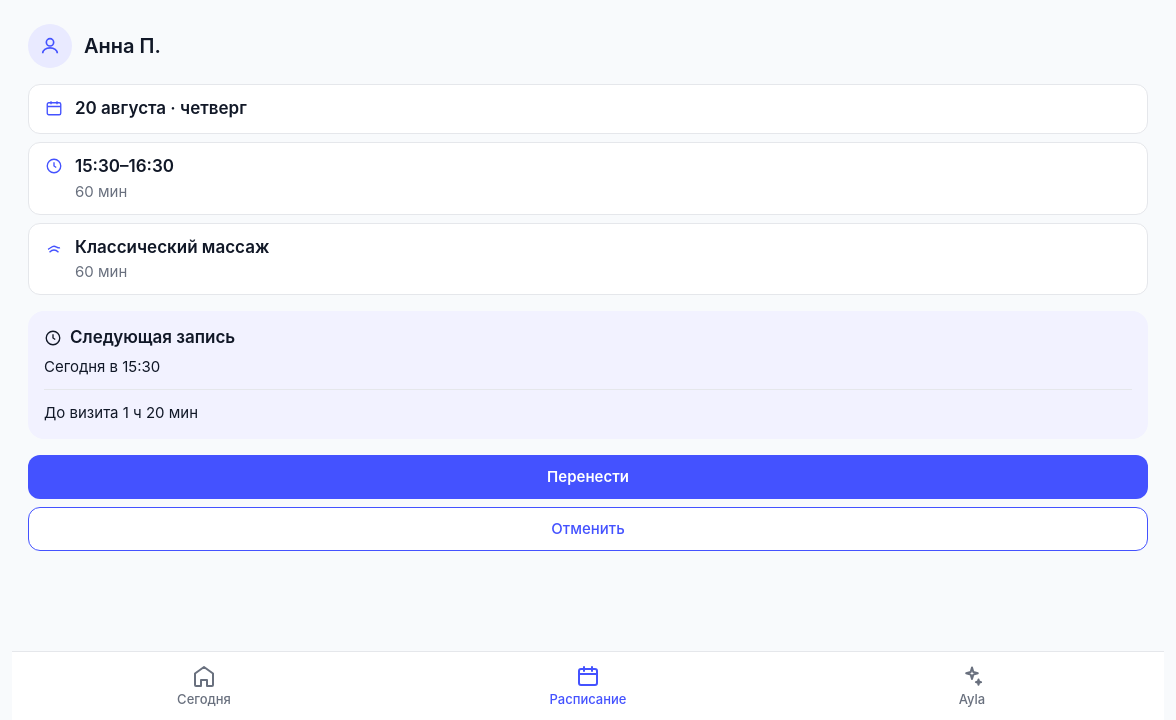
Test case: P0 actions — versioned reschedule + destructive cancel › cancel requires explicit confirmation and reads back after committed result
The width and height of the screenshot is (1176, 720).
Click the button "Отменить": (588, 529) [28, 507, 1148, 551]
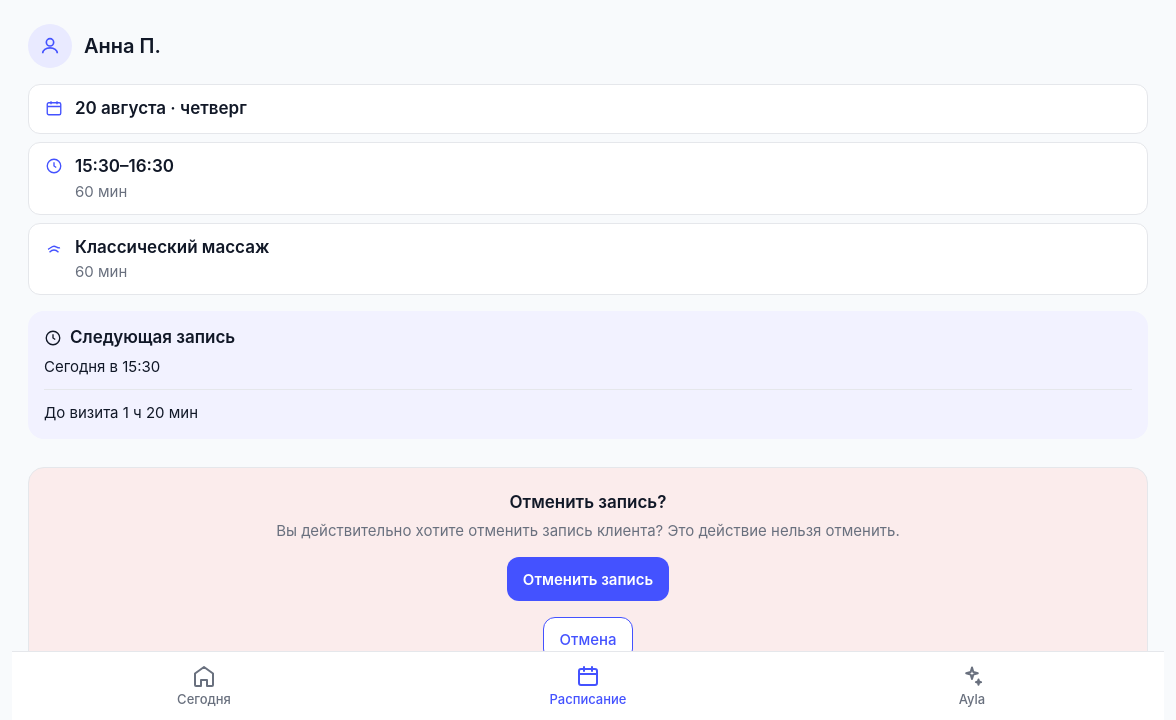
Result: the text "Отменить запись?" is shown at [510, 492, 666, 512]
Click the button "Отменить запись": (588, 579) [507, 557, 669, 601]
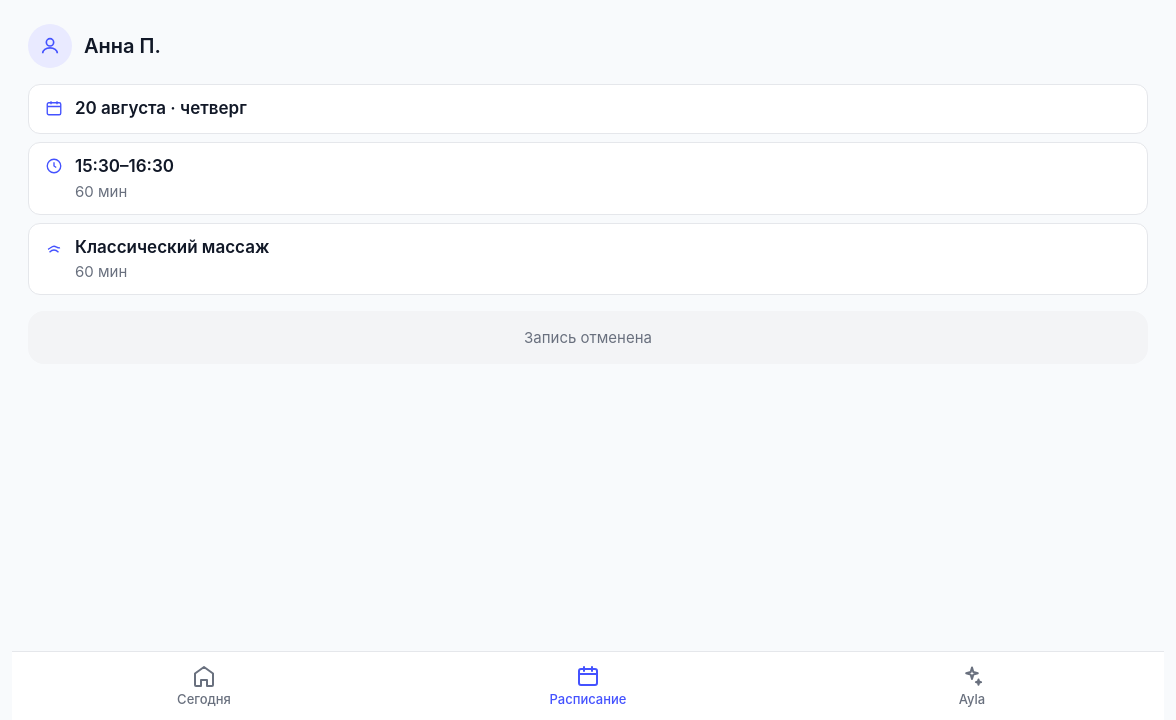
Result: the text "Запись отменена" is shown at [28, 311, 1148, 364]
